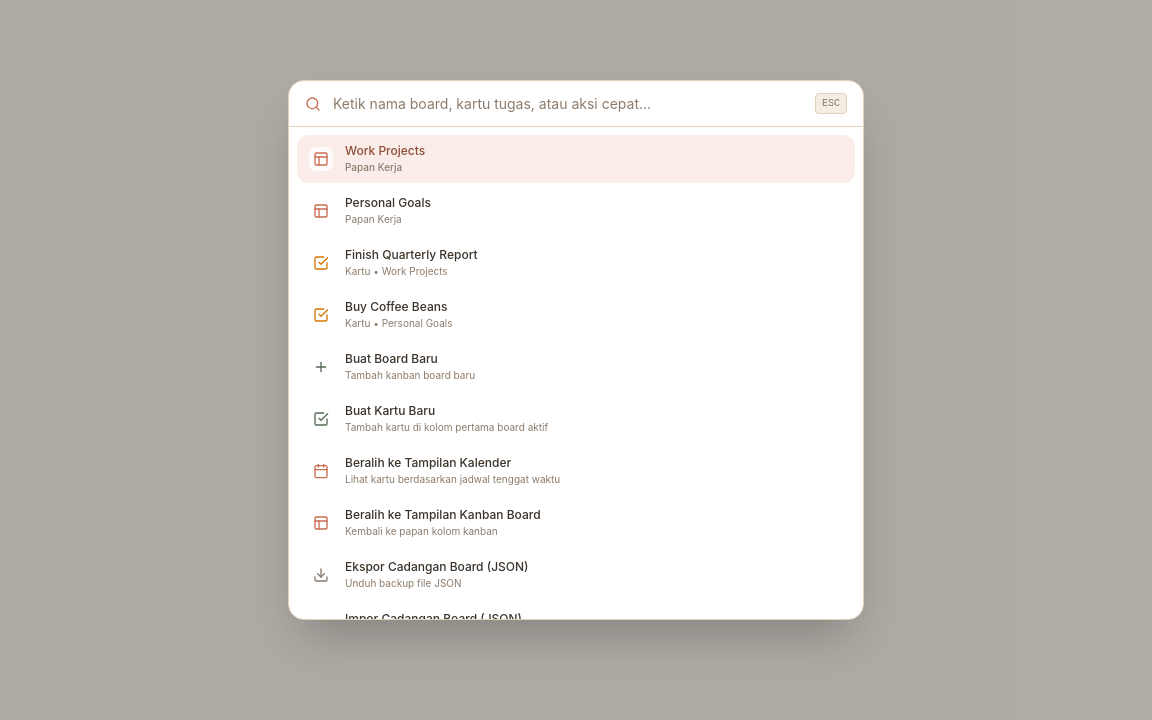
Test case: Bohemian Command Palette (Ctrl+K / Ctrl+P) › displays empty results state when no items match the query
In the field with placeholder "Ketik nama board, kartu tugas, atau aksi cepat...": (568,104) 333,94 -> 803,114, type "NonExistentQueryXYZ"
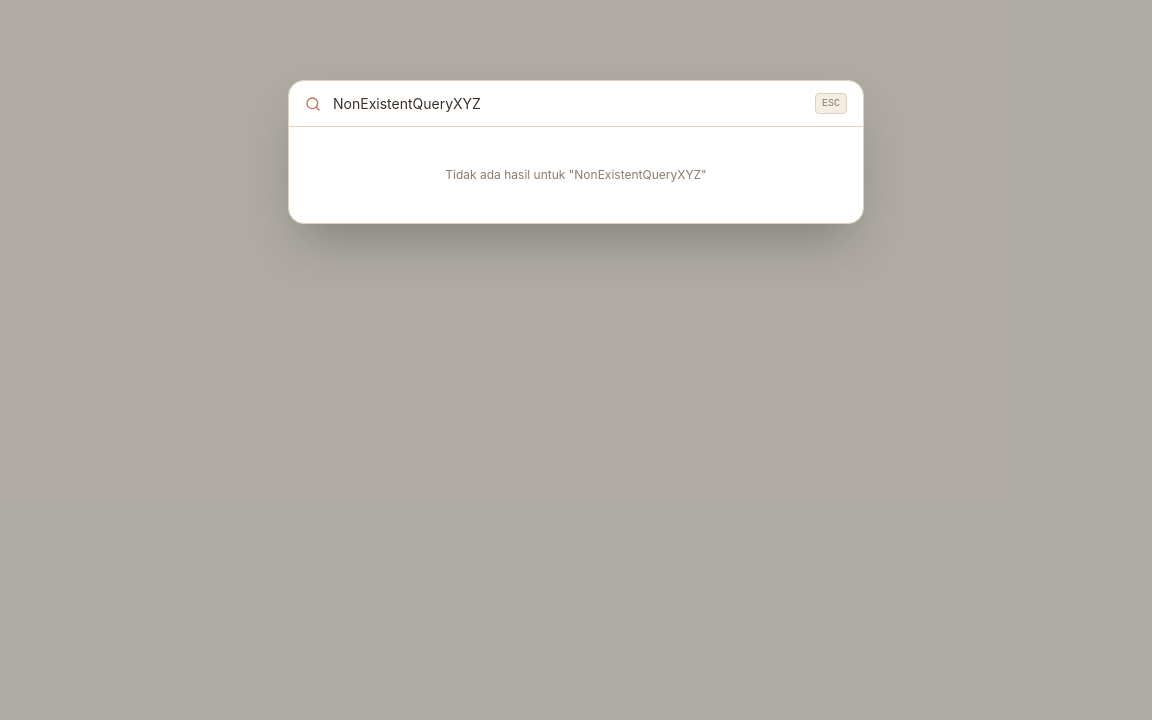
expect the text "Tidak ada hasil untuk \"NonExistentQueryXYZ\"" is shown: met, box 445,167 -> 707,182
